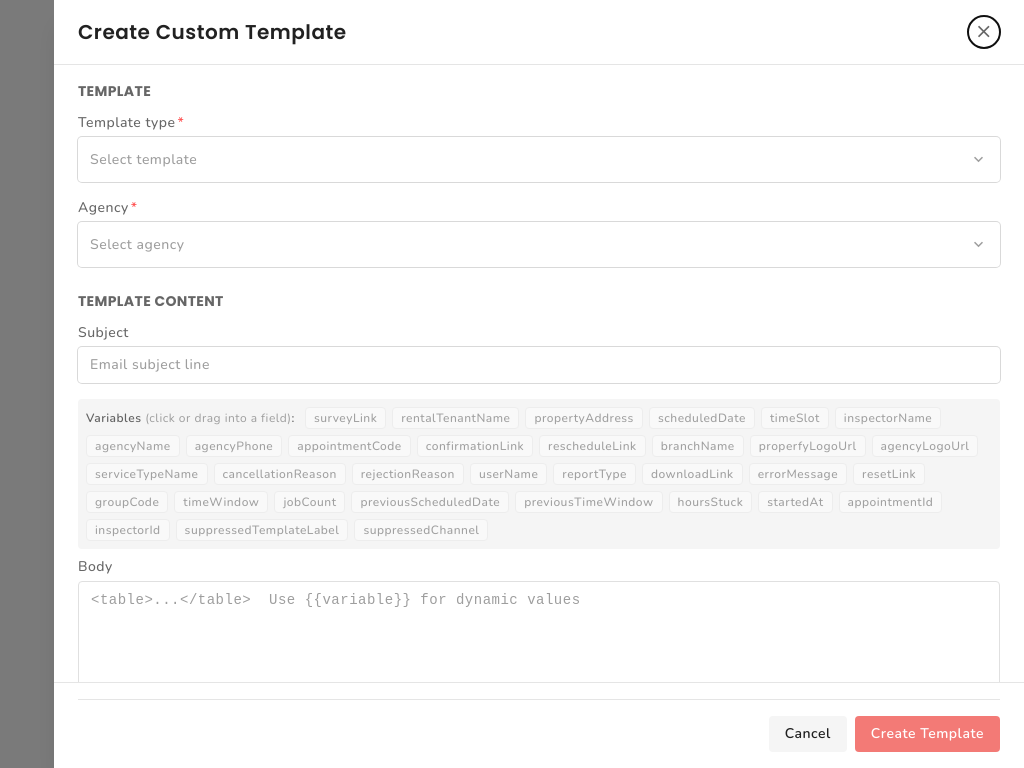
it: TemplateCreateDrawer › prefills subject and body from GET .../default when a code is selected
This screenshot has width=1024, height=768.
Click the button with aria-label "Template type".
click(144, 159)  # box [78,137,1000,182]
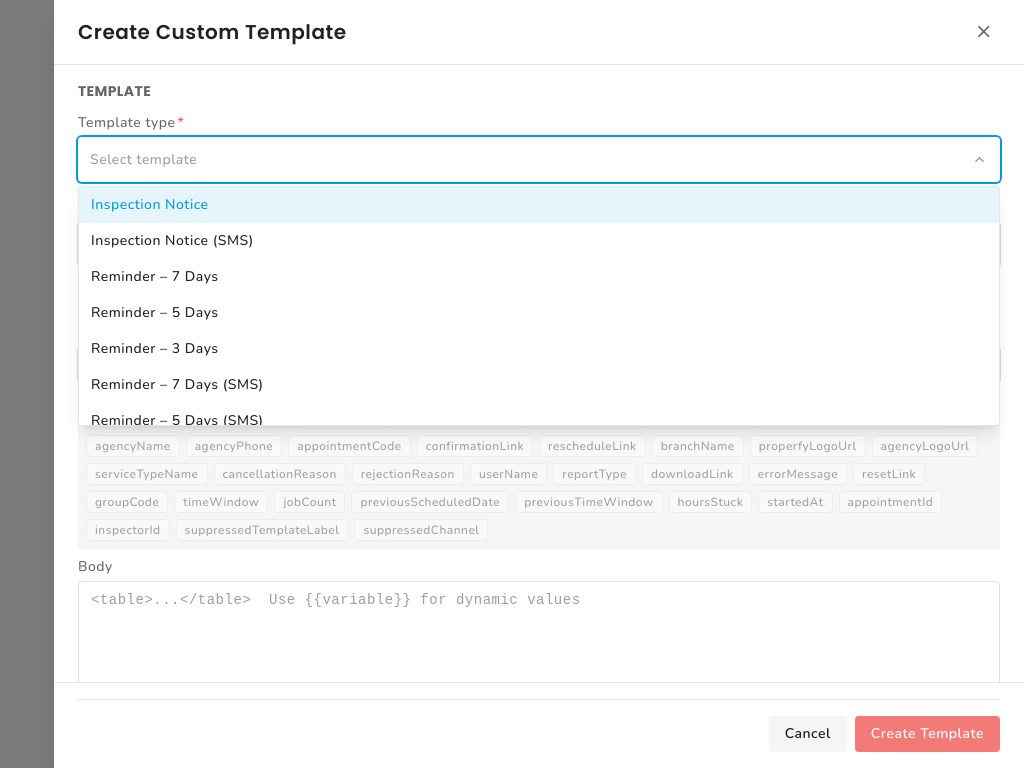
Click the option "Inspection Notice".
click(150, 204)  # box [79,187,999,223]
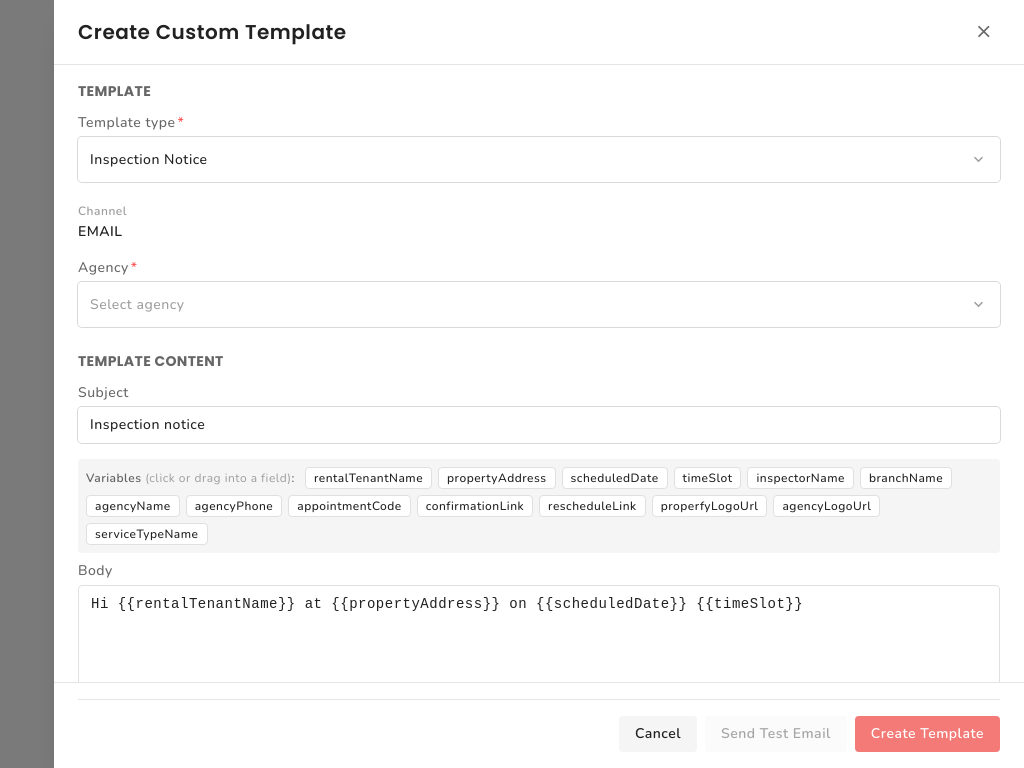
Expected: the field named "subject" holds "Inspection notice", [78,407,1000,443]
